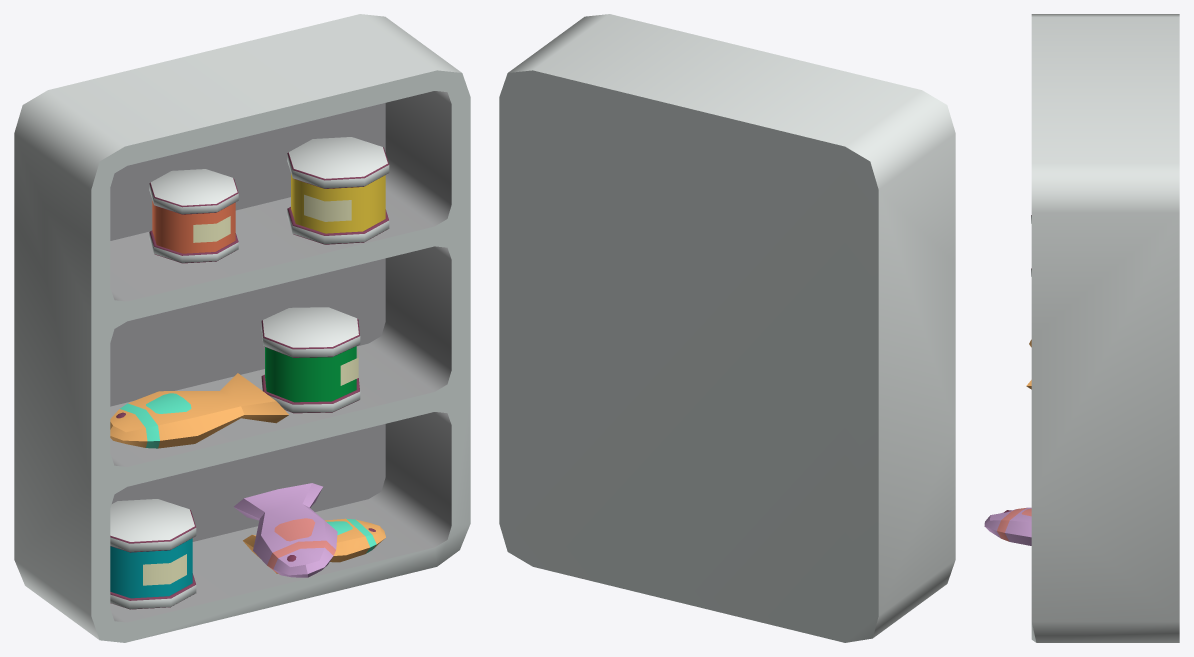
The model's file is Cabinet.fbx.
3 renders of one model, left to right at view 1: azimuth 30°, elevation 25°; view 2: azimuth 150°, elevation 25°; view 3: azimuth 270°, elevation 25°, orthographic. The views are drawn at different scales.
Parts seen in each view (by area): view 1: Cabinet; view 2: Cabinet; view 3: Cabinet.
Boxes of the visible parts, box(x1,y1,x2,y2) form: Cabinet: box(14, 14, 470, 642); Cabinet: box(499, 14, 955, 642); Cabinet: box(984, 14, 1179, 642).
Size of the model in its own units: 78.74 by 98.43 by 36.56.
